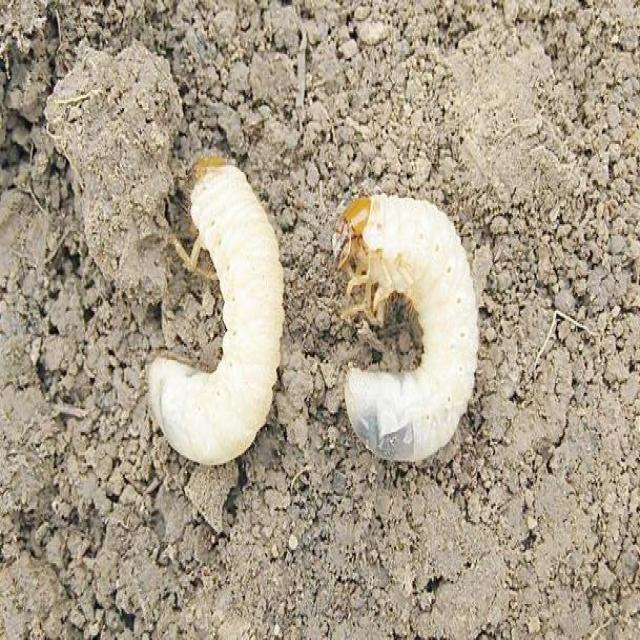Grub-Adult-: (322, 170, 498, 495), (137, 124, 289, 484)
